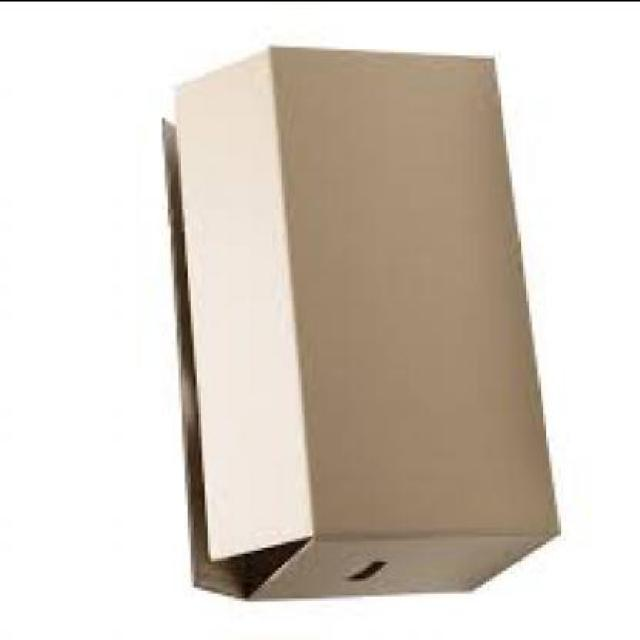CARDBOARD: (159, 48, 558, 602)
